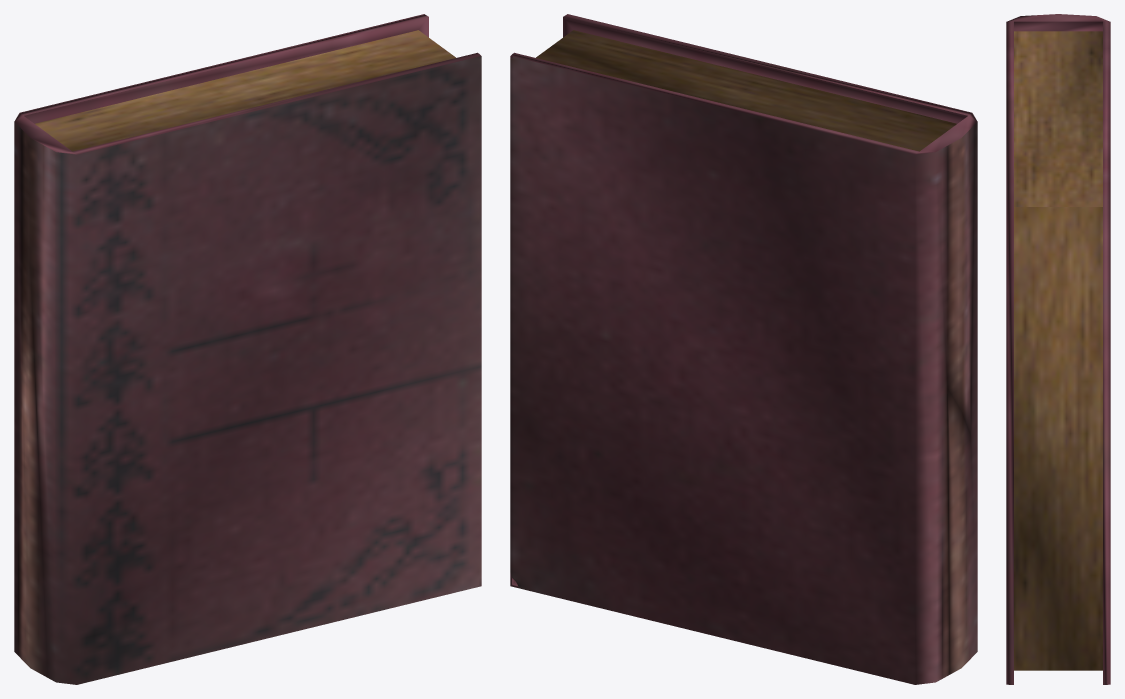
Rendered from MS_Book_1.fbx.
3 renders of one model, left to right at view 1: azimuth 30°, elevation 25°; view 2: azimuth 150°, elevation 25°; view 3: azimuth 270°, elevation 25°, orthographic. The views are drawn at different scales.
Parts seen in each view (by area): view 1: MSH_Book_01; view 2: MSH_Book_01; view 3: MSH_Book_01.
Part boxes in pixels (x1,y1,x2,y2): MSH_Book_01: (14, 14, 481, 684); MSH_Book_01: (510, 14, 977, 684); MSH_Book_01: (1006, 14, 1110, 684).
Size of the model in its own units: 20.87 by 25 by 4.89.
